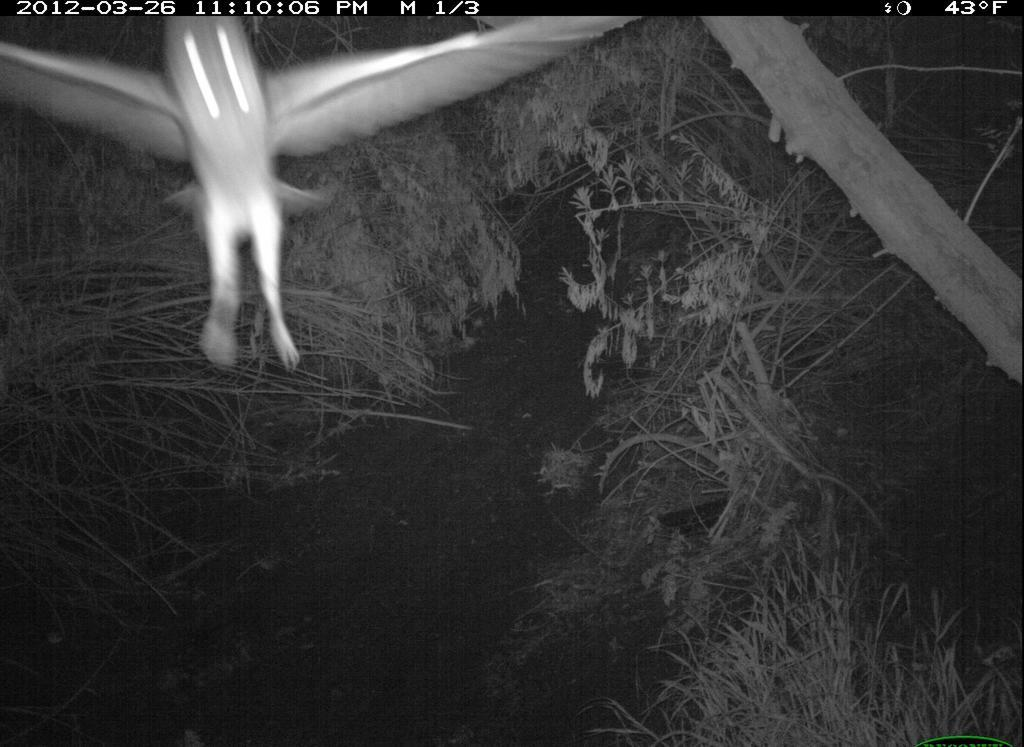bird: (3, 16, 654, 371)
